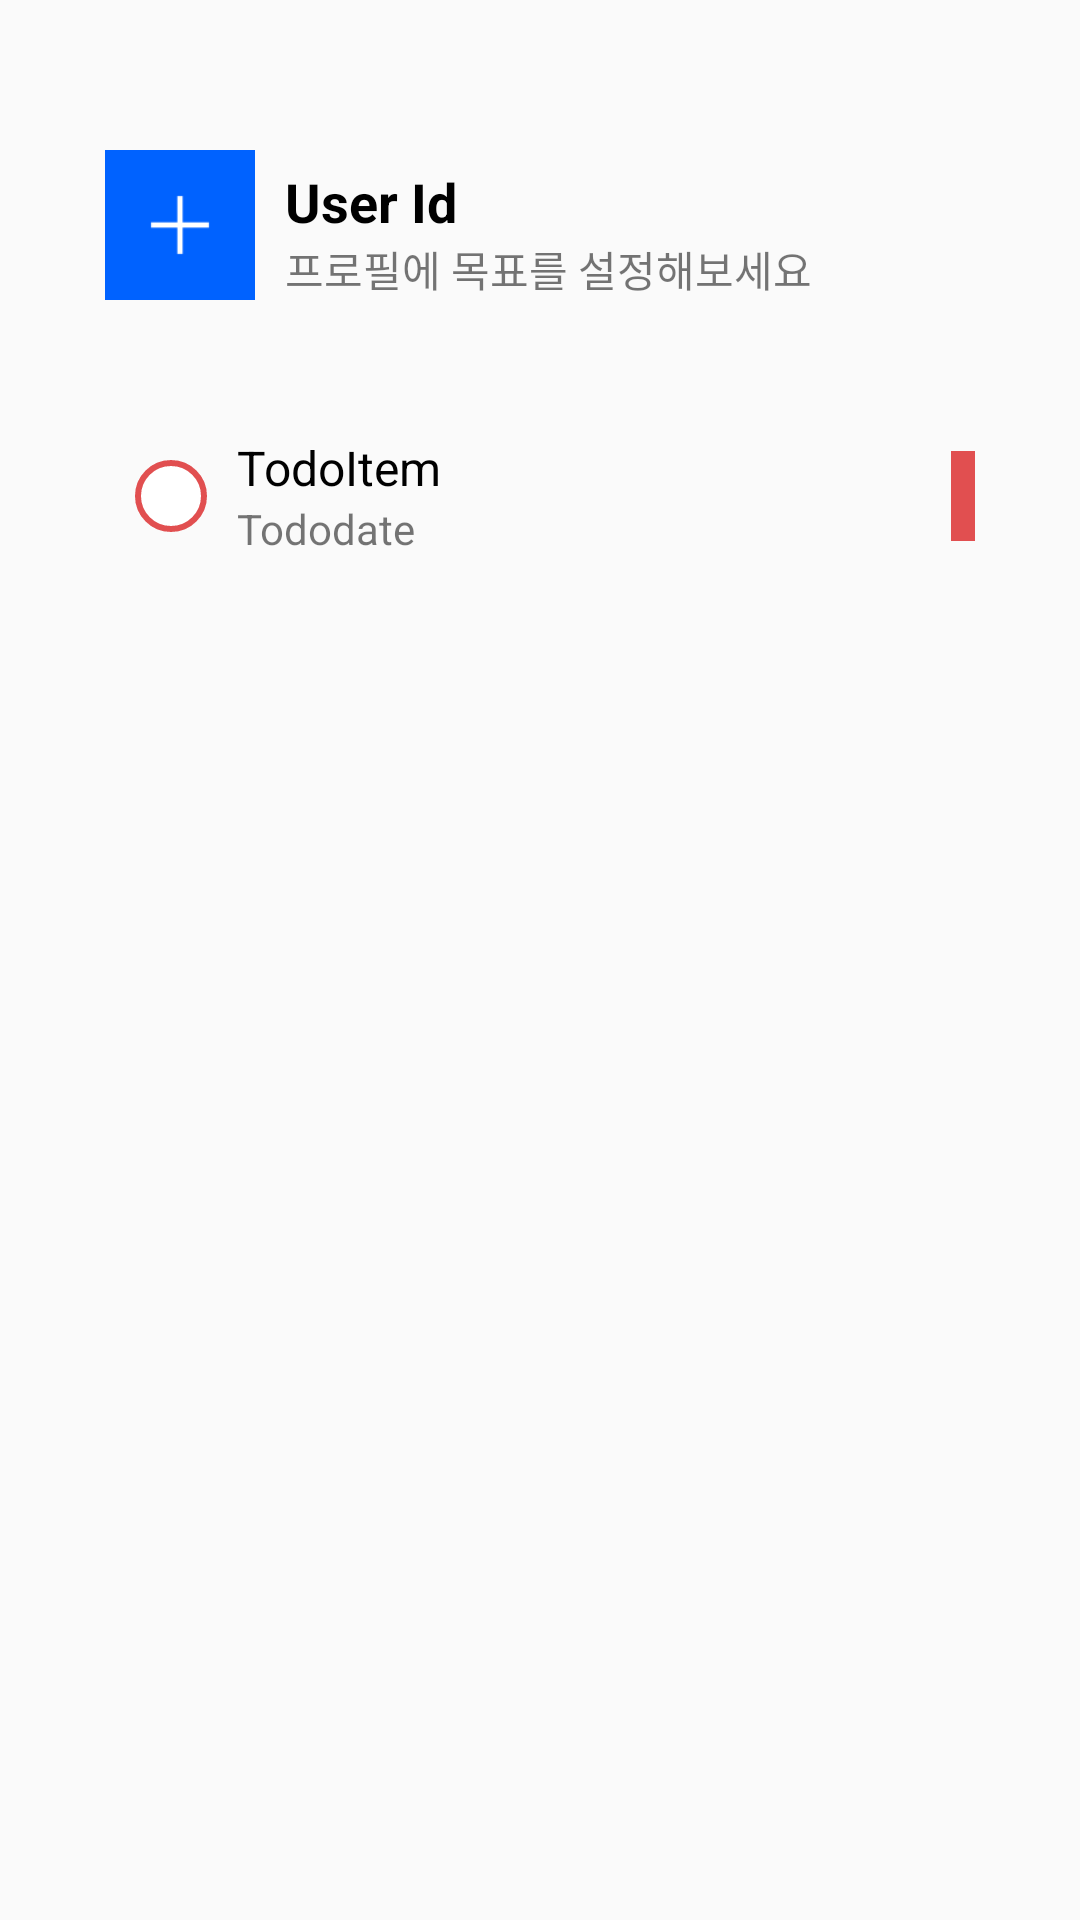

Screen size 1080×1920. Icon name, then its box in pixels as box=[x1, y1, x2, y2]:
plus: box=[105, 150, 255, 300]
